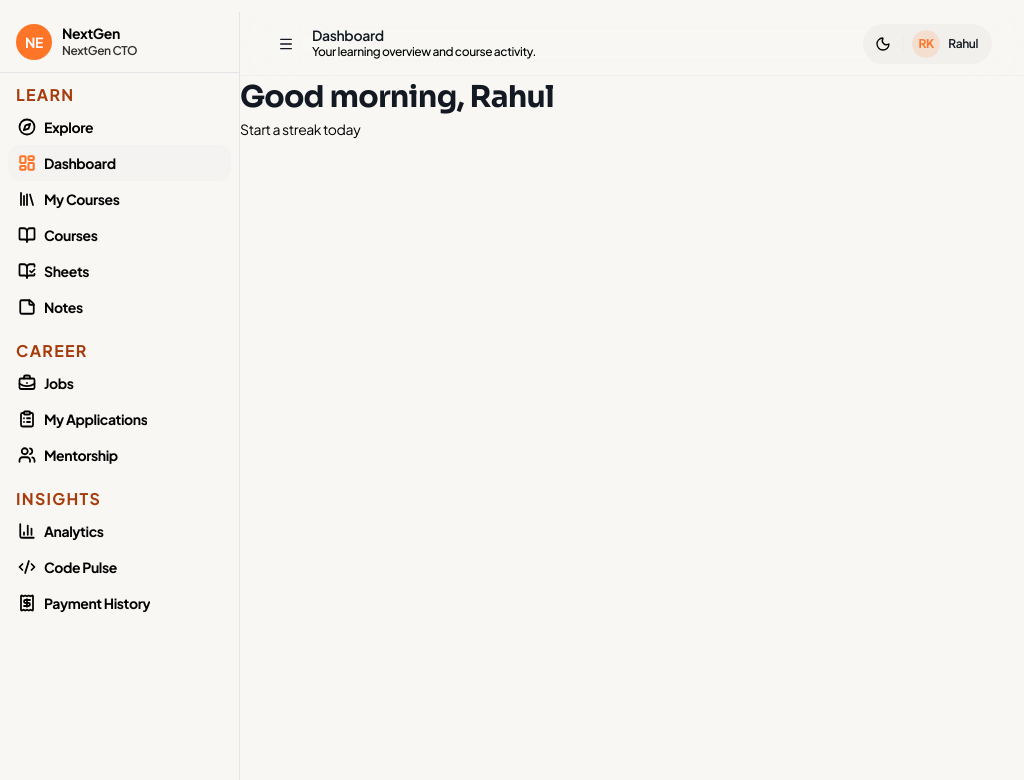
Test: Student dashboard sidebar navigation state › changes the Dashboard state to Mentorship when Mentorship is clicked
This screenshot has width=1024, height=780.
expect the text "Your learning overview and course activity." is shown: met, box [312,44,536,60]
expect the heading "Good morning, Rahul" is shown: met, box [240,80,554,114]
Act — click destination navigation item
What coordinates should you click on to do the following:
click the link "Mentorship"
I would click on:
 (68, 455)
Its box is [18,446,118,464].
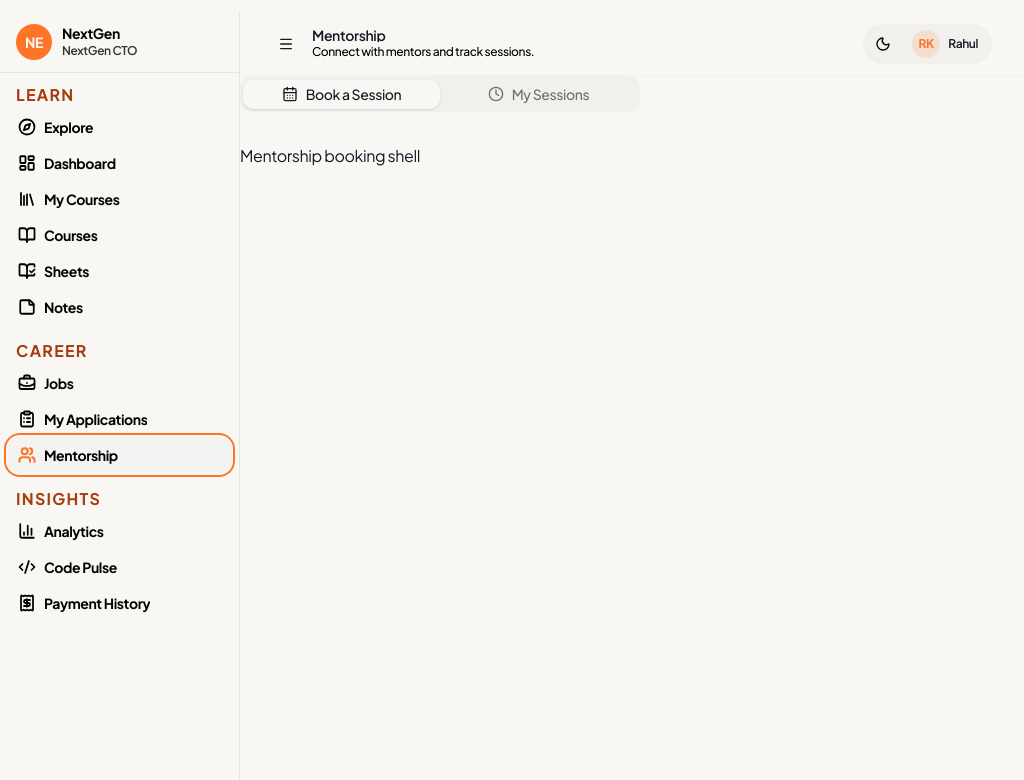
expect the tab "Book a Session" is shown: met, box [243,80,440,108]
expect the tab "My Sessions" is shown: met, box [440,80,637,108]
expect the text "Mentorship booking shell" is shown: met, box [240,145,420,166]
